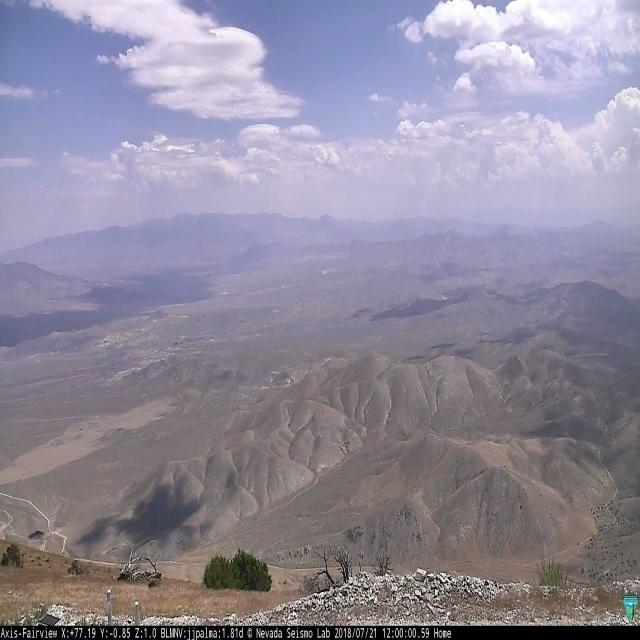smoke: (528, 226, 540, 239)
